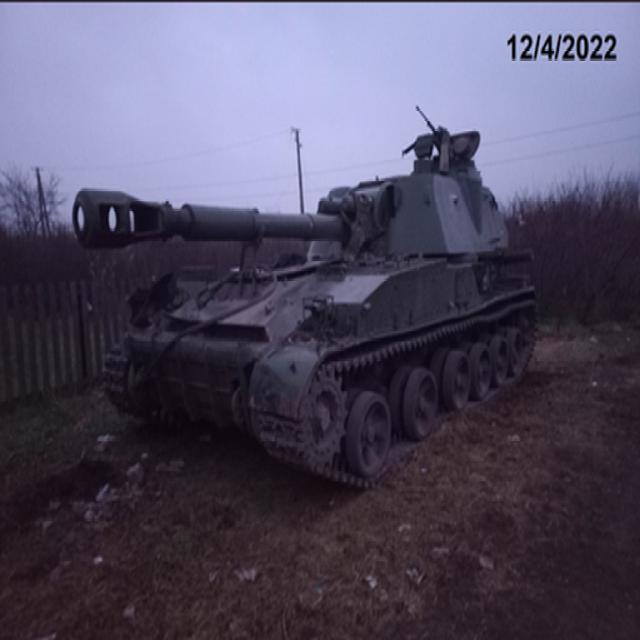ART: (69, 118, 538, 498)
